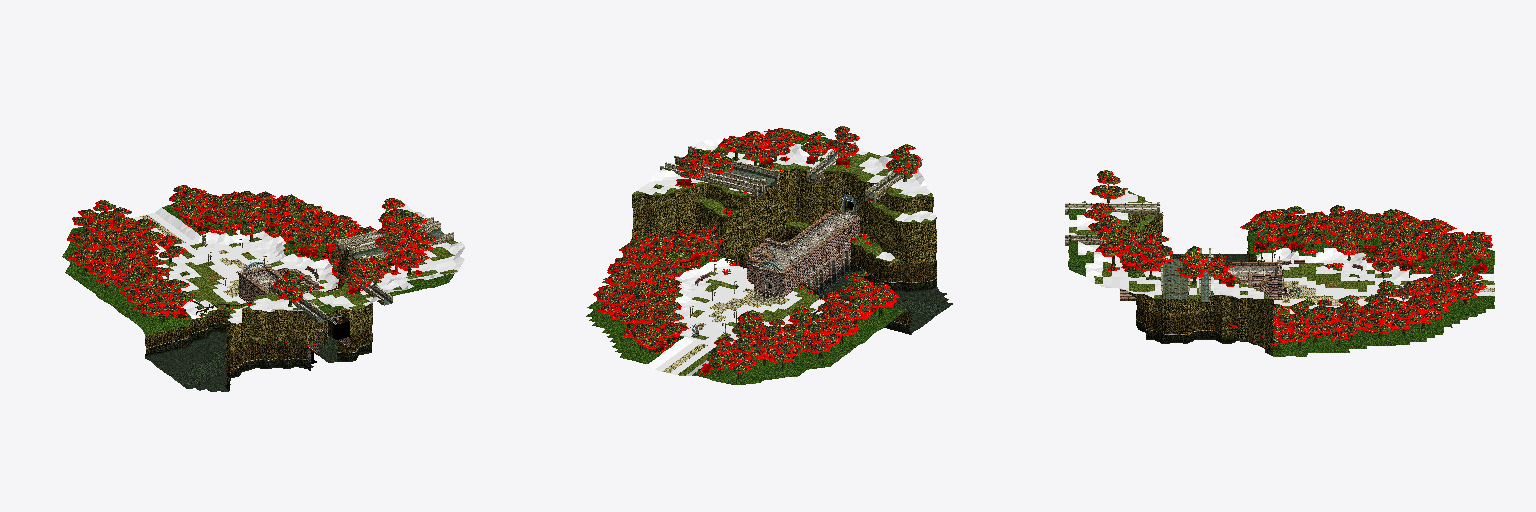
The picture shows the model from 3 angles: view 1: azimuth 30°, elevation 25°; view 2: azimuth 150°, elevation 25°; view 3: azimuth 270°, elevation 25°; orthographic projection.
Visible parts, largest first — view 1: Object.1; view 2: Object.1; view 3: Object.1.
Boxes of the visible parts, box(x1,y1,x2,y2) form: Object.1: box(62, 185, 464, 391); Object.1: box(586, 126, 952, 384); Object.1: box(1065, 170, 1494, 356).
Size of the model in its own units: 77.24 by 31.44 by 101.
Materials: 21 (17 with a texture image).